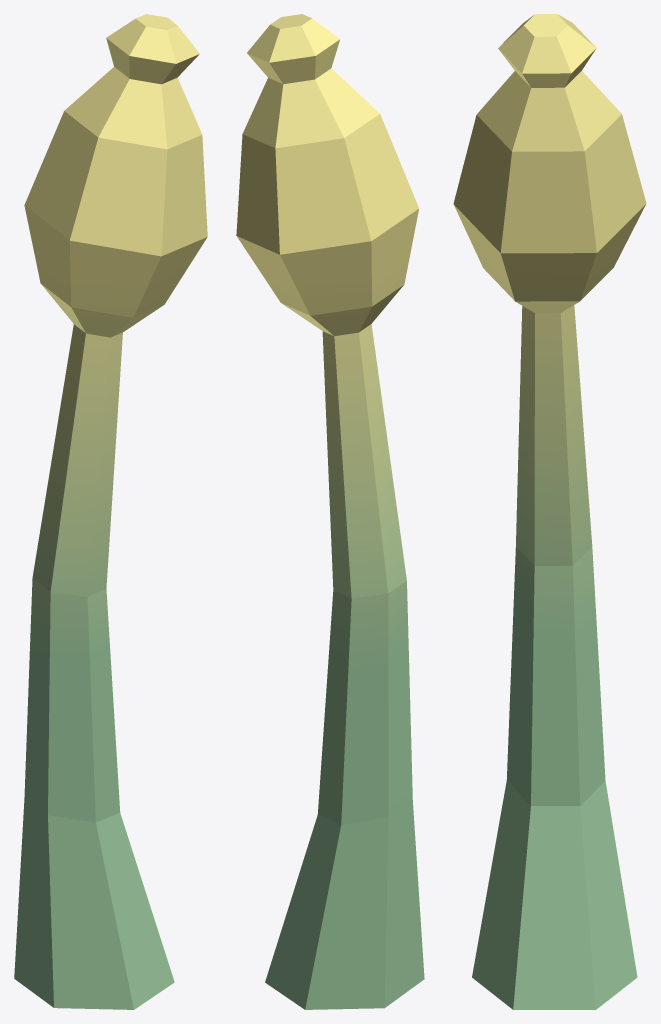
File: mushroom_015.fbx
The picture shows the model from 3 angles, left to right: view 1: azimuth 30°, elevation 25°; view 2: azimuth 150°, elevation 25°; view 3: azimuth 270°, elevation 25°; orthographic projection. The views are drawn at different scales.
Visible parts, largest first — view 1: mushroom.015; view 2: mushroom.015; view 3: mushroom.015.
Part boxes in pixels (x1,y1,x2,y2): mushroom.015: (14, 14, 207, 1009); mushroom.015: (236, 14, 424, 1009); mushroom.015: (453, 14, 646, 1009).
Size of the model in its own units: 205 by 1239 by 220.
1 material, 1 textured.
